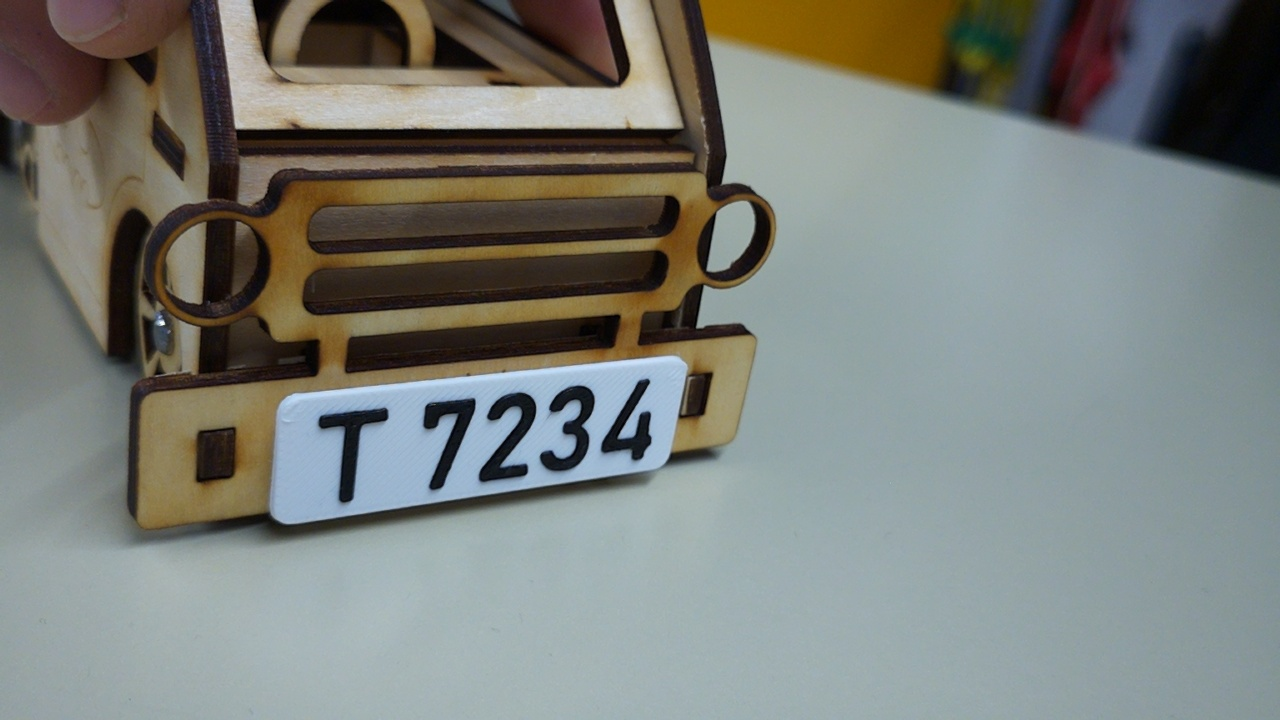license_plate: (266, 352, 690, 532)
